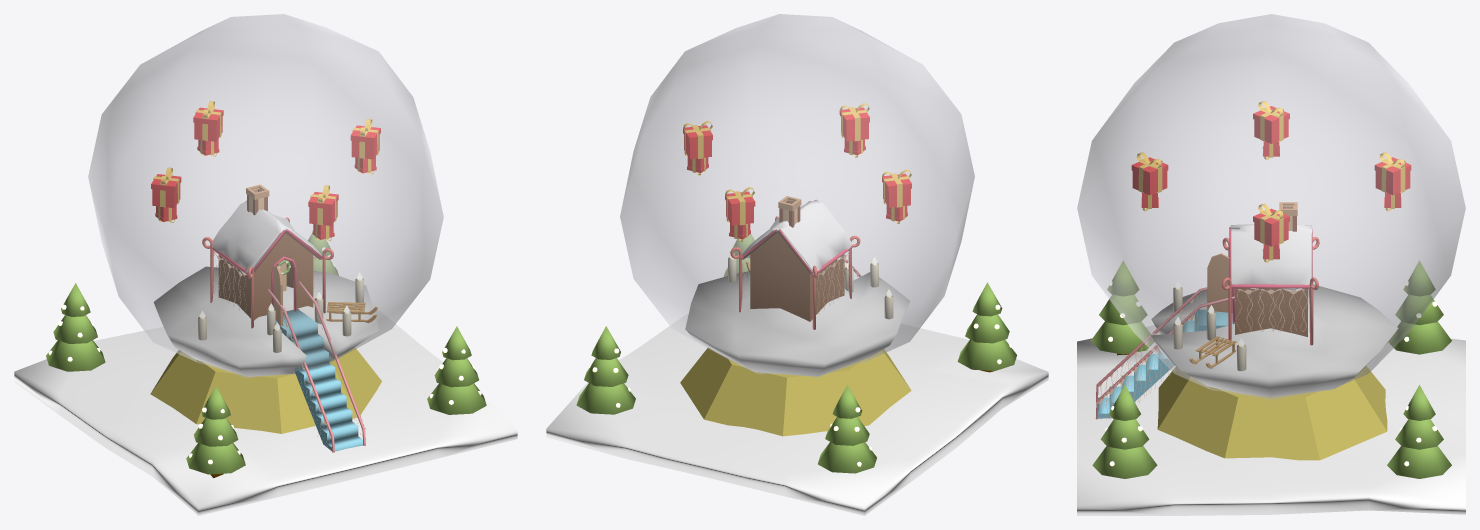
File: xmasBall.glb
The picture shows the model from 3 angles, left to right: view 1: azimuth 30°, elevation 25°; view 2: azimuth 150°, elevation 25°; view 3: azimuth 270°, elevation 25°; orthographic projection. The views are drawn at different scales.
Parts seen in each view (by area): view 1: Sphere, ground, neigeboule, socle, Cube.023, maison, sapin.003, sapin.002, sapin.001, neige, Cube.011, Cube.012 (+4 smaller); view 2: Sphere, ground, neigeboule, socle, maison, sapin.003, sapin.002, sapin.000, neige, Cube.010, Cube.020, Cube.012 (+1 smaller); view 3: Sphere, ground, socle, neigeboule, neige.001, sapin.001, sapin.000, sapin.002, sapin.003, maison, Cube.023, Cube.012 (+9 smaller).
Part boxes in pixels (x1,y1,x2,y2): Sphere: (88,14,443,377); ground: (14,310,517,515); neigeboule: (153,266,379,376); socle: (150,347,381,433); Cube.023: (275,309,363,451); maison: (218,233,313,320); sapin.003: (186,386,245,477); sapin.002: (46,283,105,371); sapin.001: (427,326,486,414); neige: (212,201,287,274); Cube.011: (350,119,380,174); Cube.012: (193,101,223,156); Sphere: (620,14,974,377); ground: (546,313,1048,515); neigeboule: (685,271,910,376); socle: (680,347,911,436); maison: (750,232,844,321); sapin.003: (957,282,1016,372); sapin.002: (818,385,876,473); sapin.000: (576,326,635,414); neige: (777,199,852,271); Cube.010: (882,169,911,223); Cube.020: (839,103,869,157); Cube.012: (725,187,755,241); Sphere: (1077,14,1465,400); ground: (1077,325,1465,515); socle: (1157,366,1387,460); neigeboule: (1151,284,1398,397); neige.001: (1231,225,1312,290); sapin.001: (1092,385,1157,478); sapin.000: (1387,385,1451,478); sapin.002: (1389,260,1451,354); sapin.003: (1091,260,1154,355); maison: (1235,288,1307,336); Cube.023: (1097,309,1232,418); Cube.012: (1374,152,1411,211).
Size of what is drawn, in the model's own units: 16 by 18.53 by 16.
6 materials, 3 textured.
